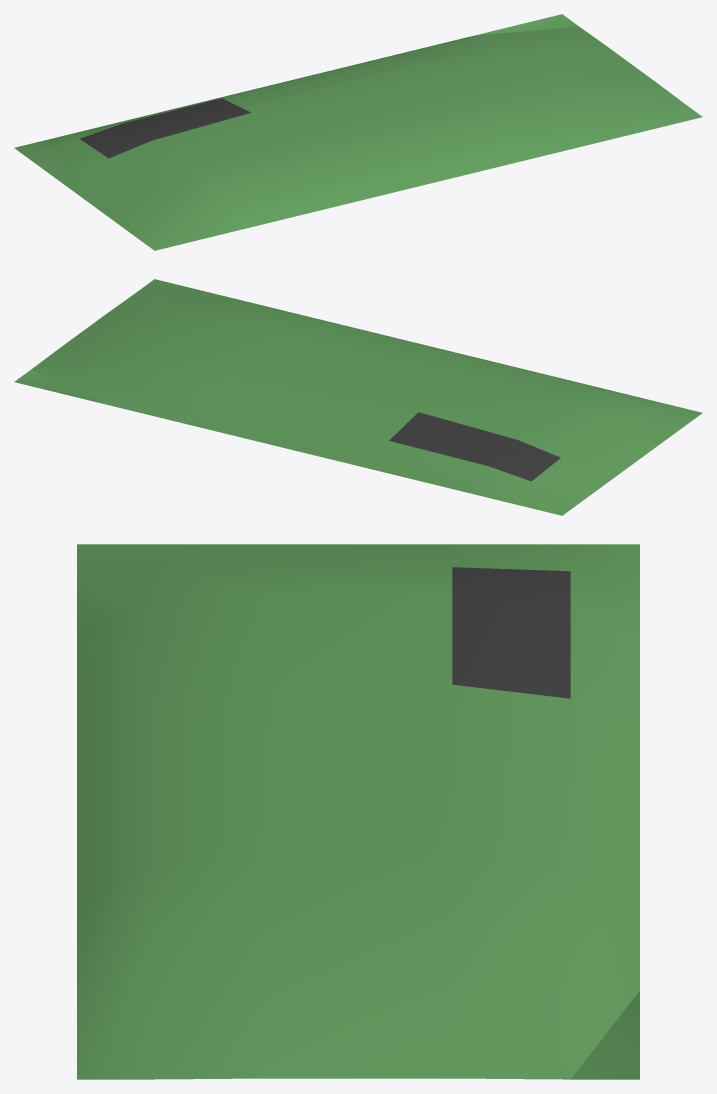
Rendered from Fat_Envelope.fbx.
The picture shows the model from 3 angles, top to bottom: view 1: azimuth 30°, elevation 25°; view 2: azimuth 150°, elevation 25°; view 3: azimuth 270°, elevation 25°; orthographic projection. The views are drawn at different scales.
Visible parts, largest first — view 1: Fat_Envelope; view 2: Fat_Envelope; view 3: Fat_Envelope.
Part boxes in pixels (x1,y1,x2,y2): Fat_Envelope: [14, 14, 702, 250]; Fat_Envelope: [14, 279, 702, 515]; Fat_Envelope: [77, 544, 639, 1079].
Size of the model in its own units: 0.9 by 0.0719 by 0.4.
